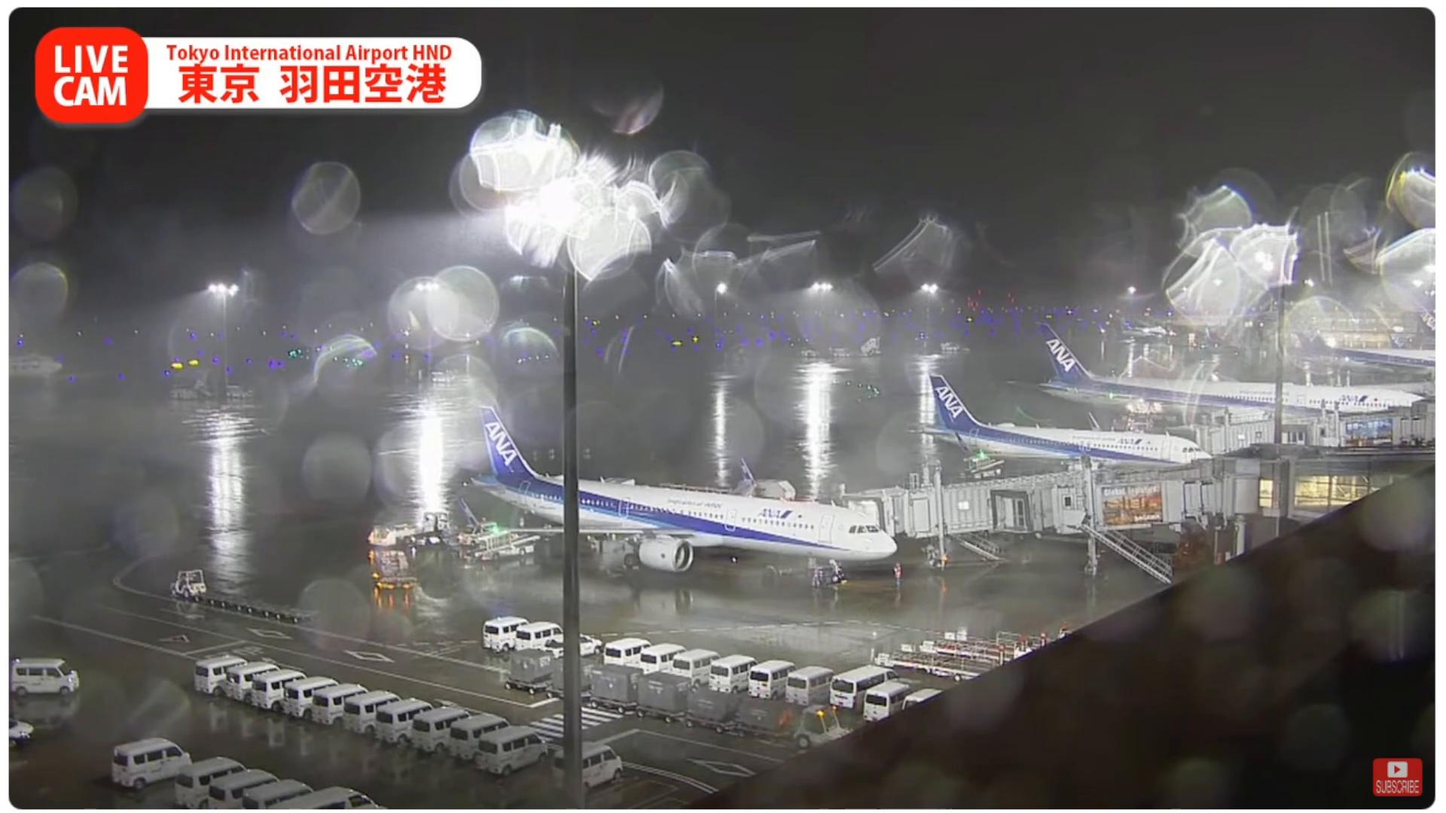Aerobridge: (839, 461, 1195, 539), (988, 472, 1227, 537)
Airplane: (461, 406, 899, 585)
Dolly: (502, 648, 797, 743), (189, 591, 322, 625), (660, 481, 754, 496)
JCPL: (874, 647, 1012, 682), (913, 631, 1059, 660)
Skyloader: (461, 525, 542, 562)
Tractor: (789, 701, 855, 749), (168, 568, 208, 600), (754, 478, 797, 500)
Window: (1291, 475, 1415, 508)
